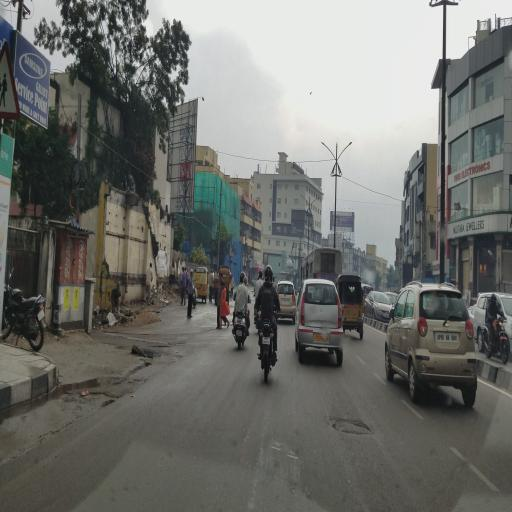street_light_0: (316, 131, 338, 175), (336, 132, 356, 176)
